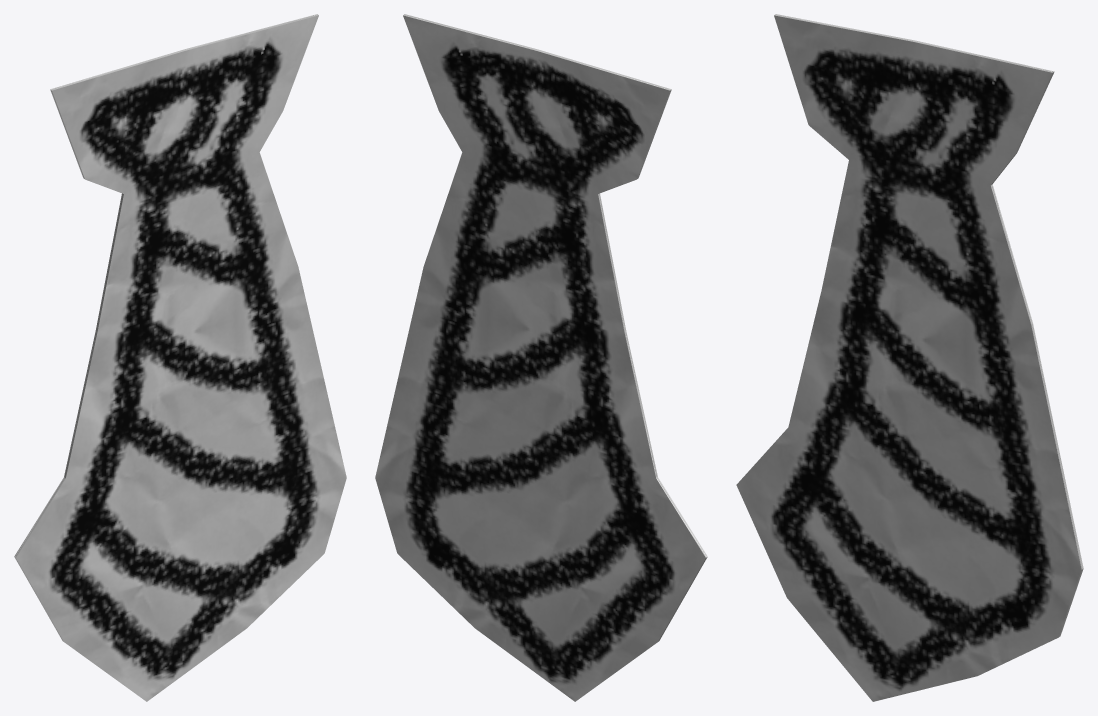
The model's file is 03-cute-paper-tie-12533982343.glb.
3 renders of one model, left to right at view 1: azimuth 30°, elevation 25°; view 2: azimuth 150°, elevation 25°; view 3: azimuth 330°, elevation 25°, orthographic. The views are drawn at different scales.
Visible parts, largest first — view 1: 03-cute-paper-tie-12533982343; view 2: 03-cute-paper-tie-12533982343; view 3: 03-cute-paper-tie-12533982343.
Part boxes in pixels (x1,y1,x2,y2): 03-cute-paper-tie-12533982343: [14, 14, 346, 701]; 03-cute-paper-tie-12533982343: [375, 14, 707, 701]; 03-cute-paper-tie-12533982343: [736, 14, 1083, 701].
Bounding box in the file's own units: 0.8314 × 1.55 × 0.008.
Materials: 1 (1 with a texture image).
